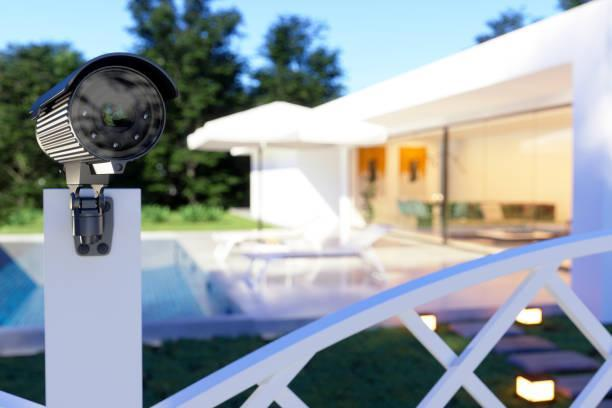camera: (10, 26, 197, 258)
